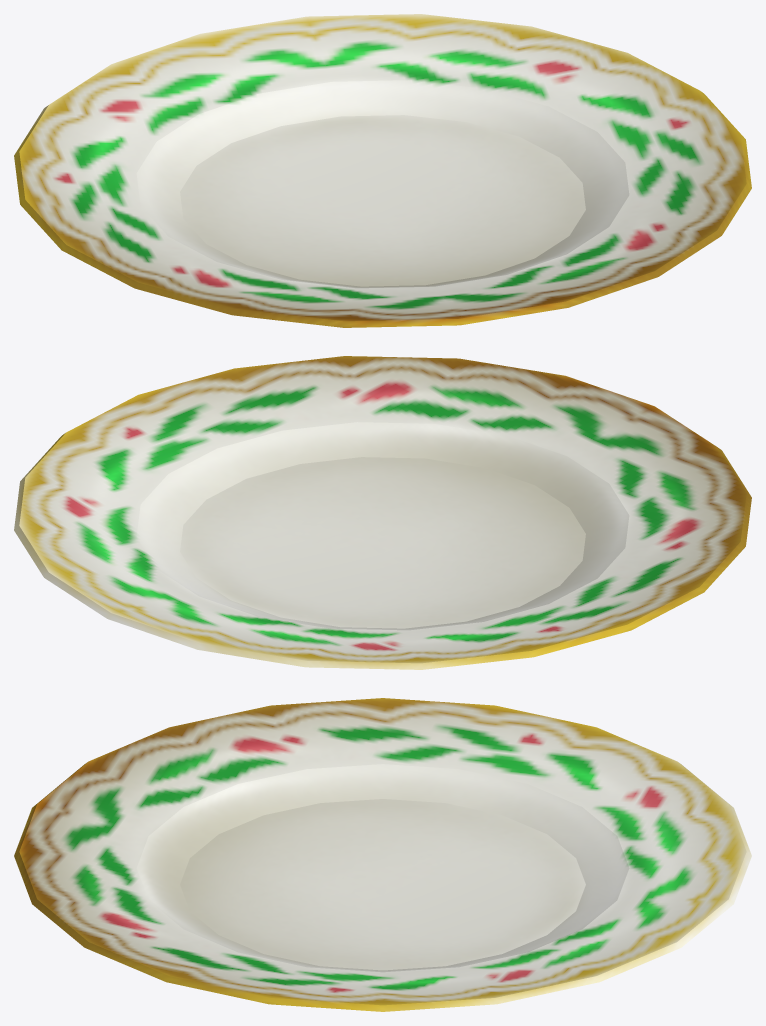
File: TouKuiZheJia_01_panzi_01_UV2.FBX
3 renders of one model, top to bottom at view 1: azimuth 30°, elevation 25°; view 2: azimuth 150°, elevation 25°; view 3: azimuth 270°, elevation 25°, orthographic.
Visible parts, largest first — view 1: TouKuiZheJia_panzi_01; view 2: TouKuiZheJia_panzi_01; view 3: TouKuiZheJia_panzi_01.
Boxes of the visible parts, x1=… form: TouKuiZheJia_panzi_01: x1=14, y1=14, x2=751, y2=327; TouKuiZheJia_panzi_01: x1=14, y1=356, x2=751, y2=669; TouKuiZheJia_panzi_01: x1=14, y1=698, x2=751, y2=1011.
Bounding box in the file's own units: 38.49 × 4.25 × 38.49.
1 material, 1 textured.
